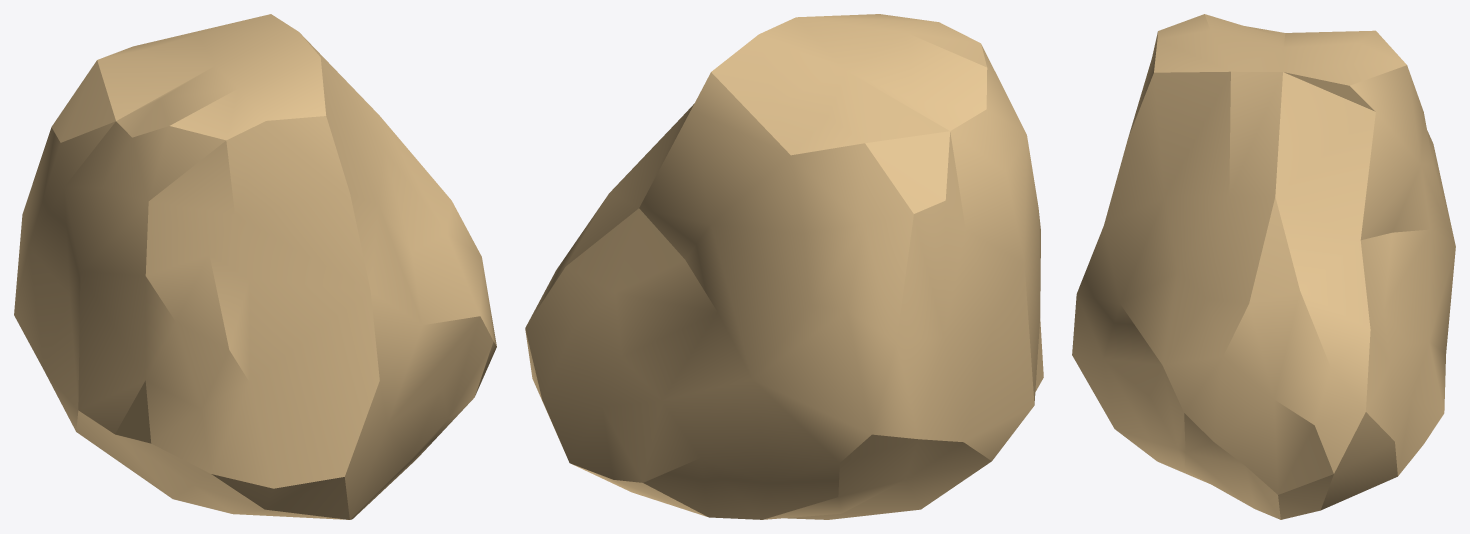
The model's file is Rock1.obj.
3 renders of one model, left to right at view 1: azimuth 30°, elevation 25°; view 2: azimuth 150°, elevation 25°; view 3: azimuth 270°, elevation 25°, orthographic. The views are drawn at different scales.
Parts seen in each view (by area): view 1: rock.015; view 2: rock.015; view 3: rock.015.
Part boxes in pixels (<box>): rock.015: <box>14,14,496,519</box>; rock.015: <box>525,14,1043,519</box>; rock.015: <box>1072,14,1455,519</box>.
Size of the model in its own units: 1.1 by 1.14 by 0.9409.
